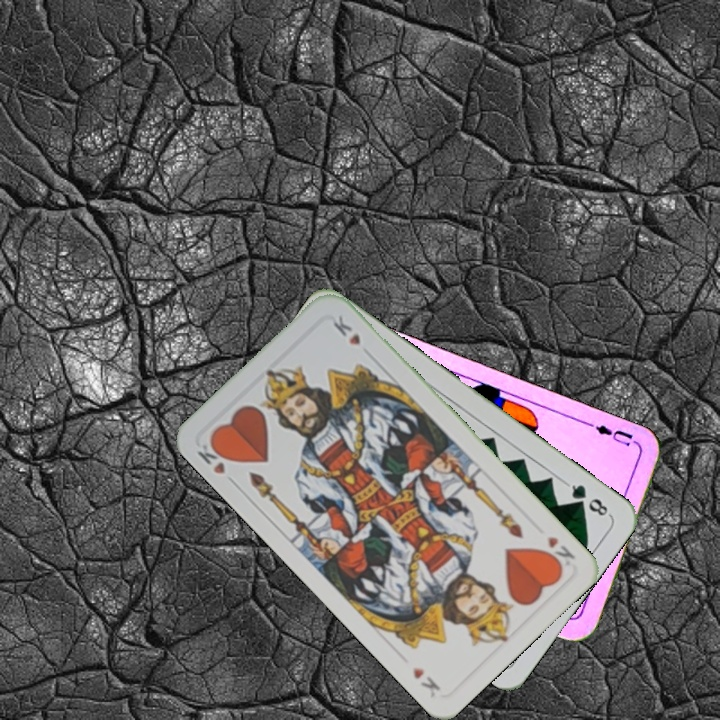EU: (591, 420, 636, 449)
G8: (562, 479, 613, 519)
HK: (193, 434, 240, 489), (539, 532, 578, 572)
